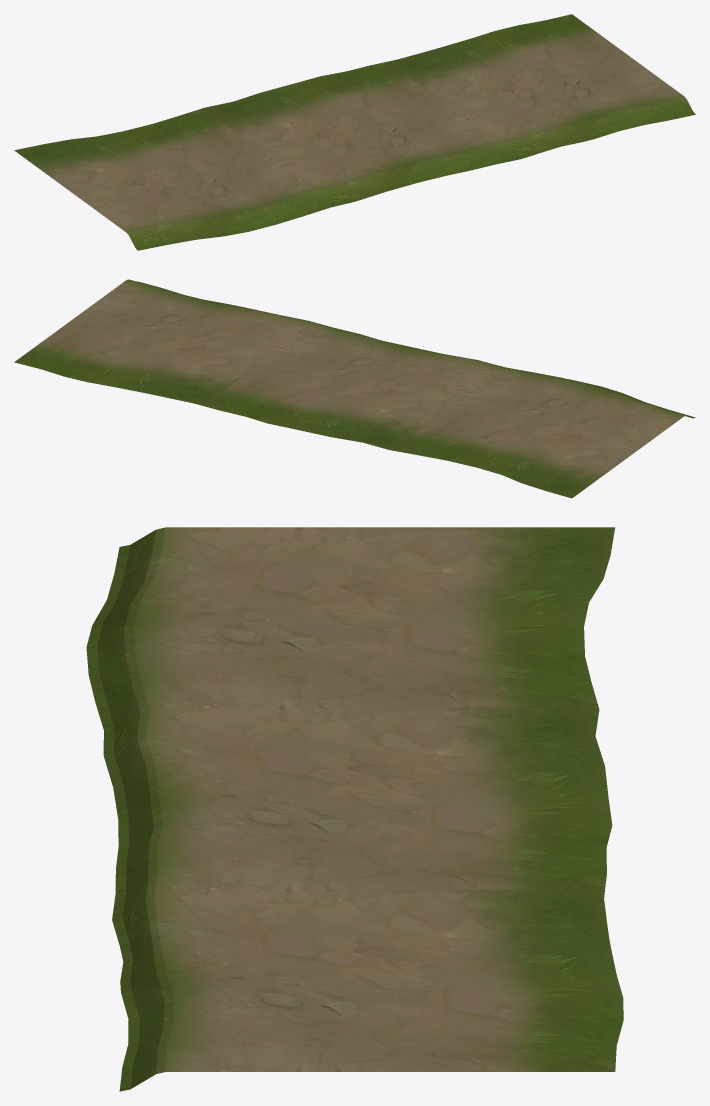
File: map_112_dibiao_1.fbx
The picture shows the model from 3 angles, top to bottom: view 1: azimuth 30°, elevation 25°; view 2: azimuth 150°, elevation 25°; view 3: azimuth 270°, elevation 25°; orthographic projection. The views are drawn at different scales.
Visible parts, largest first — view 1: map_112_dibiao_3; view 2: map_112_dibiao_3; view 3: map_112_dibiao_3.
Boxes of the visible parts, bbox=[...] form: map_112_dibiao_3: bbox=[14, 14, 695, 250]; map_112_dibiao_3: bbox=[14, 279, 695, 498]; map_112_dibiao_3: bbox=[86, 527, 623, 1091].
Size of the model in its own units: 60 by 1.01 by 25.
